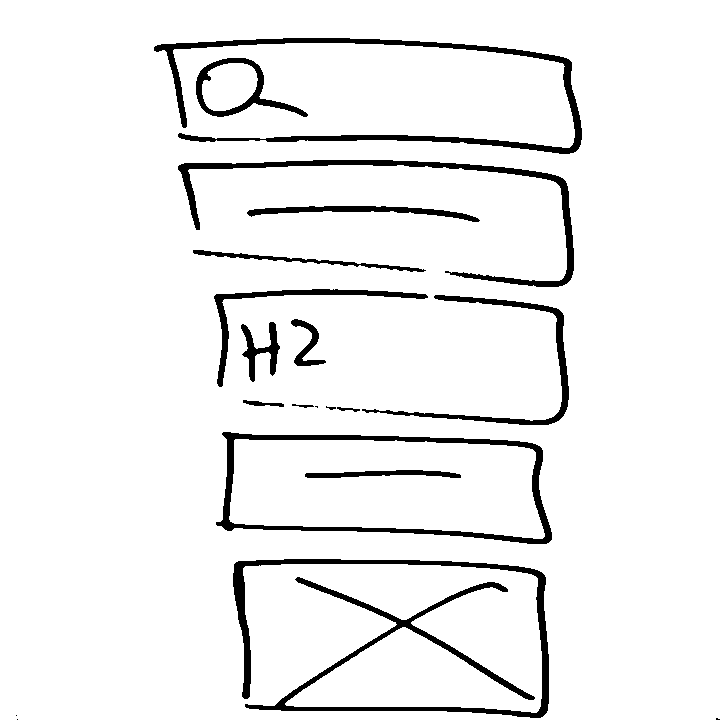button: (170, 156, 587, 290), (214, 420, 560, 554)
heading2: (204, 288, 582, 429)
picture: (220, 553, 561, 720)
search bar: (154, 30, 595, 162)
